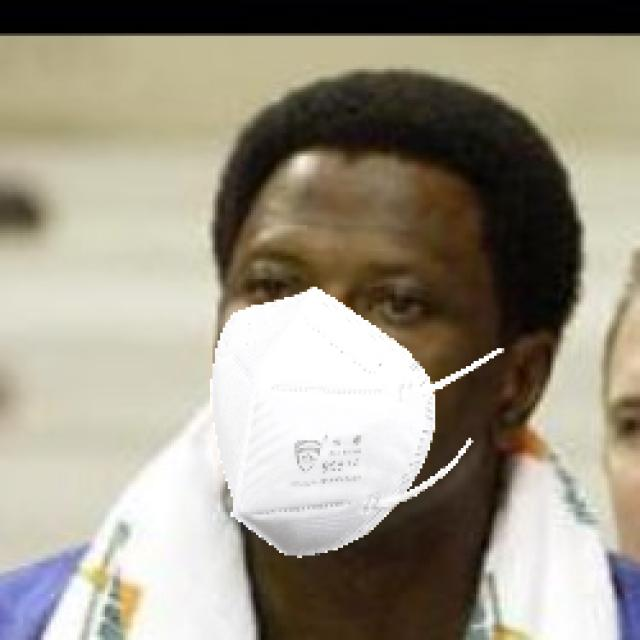mask: (189, 300, 495, 558)
